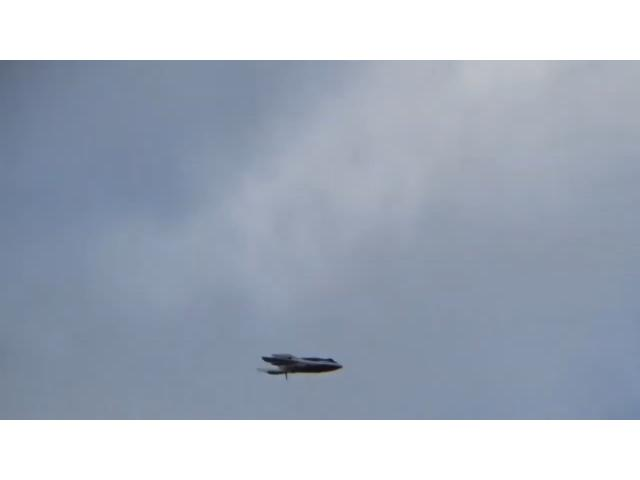Anti-Drone: (256, 352, 342, 376)
